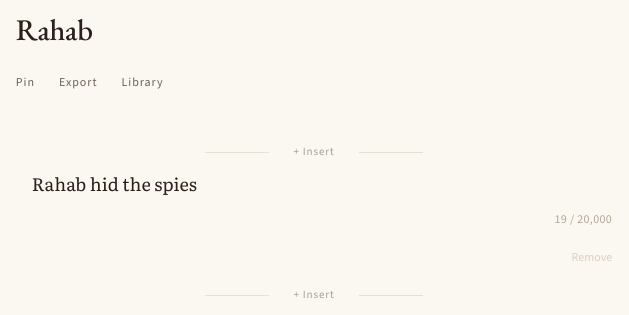
Test: StudyEditor — autosave and save state › S-13: a failed write shows Save failed — Retry, keeps the buffer, and Retry resends it
Replace the text in the text box named "Text block 1" with "the spies went out by another way" at (322, 184), box [32,168,612,200]
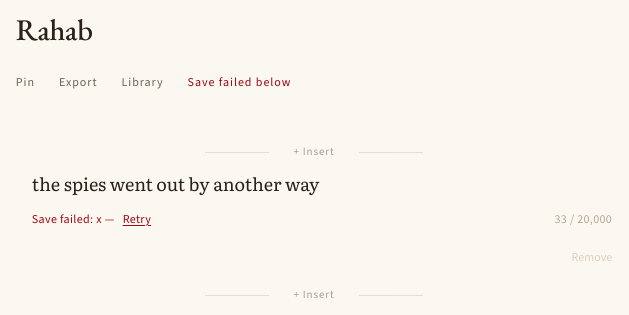
Now the message "Save failed: x — Retry" is shown, box [32,211,151,227]
Now the text "Save failed below" is shown, box [188,74,291,90]
Click the button "Retry" at (137, 219), box [123,211,151,227]
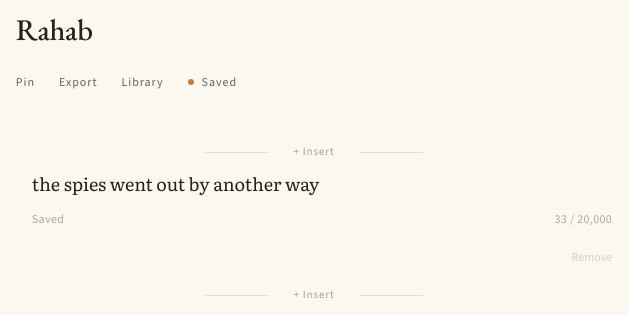
Now the text "Saved" is shown, box [188,74,237,90]
